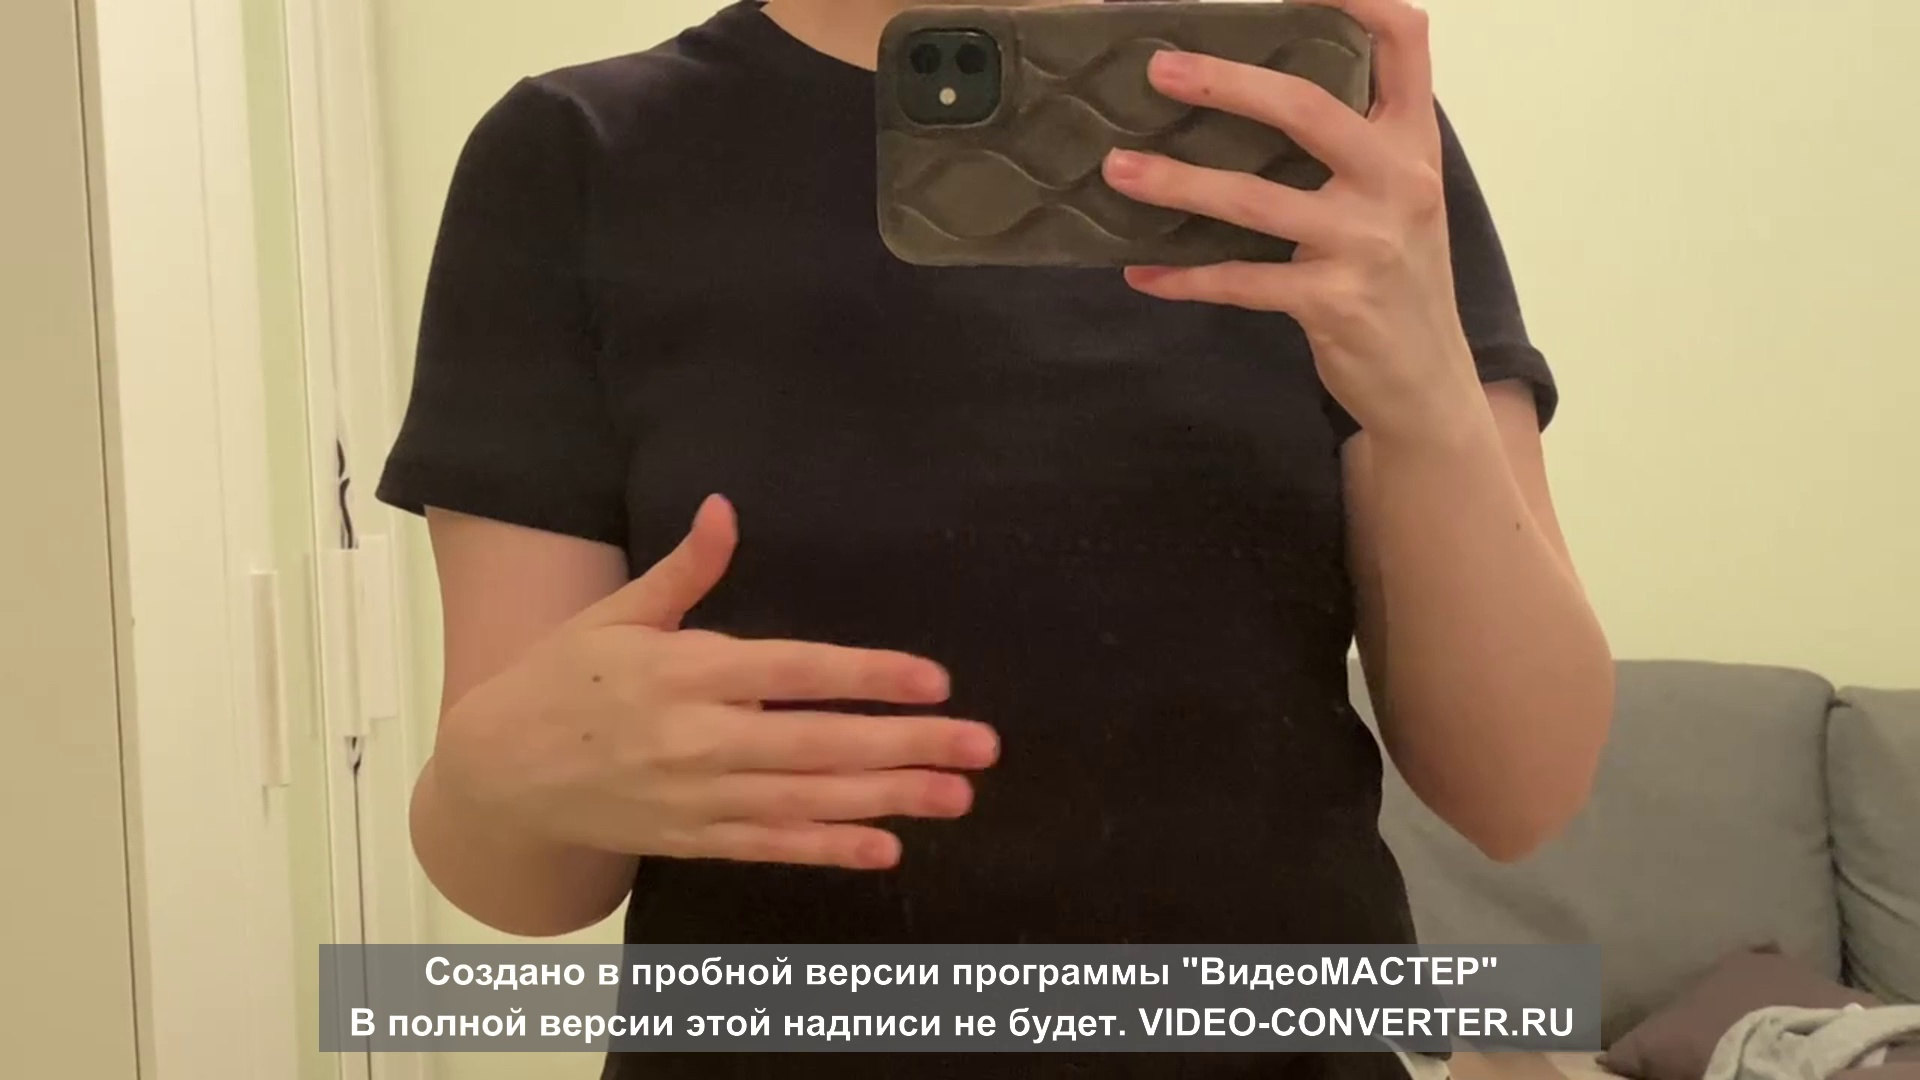Кисть: (434, 496, 998, 868)
